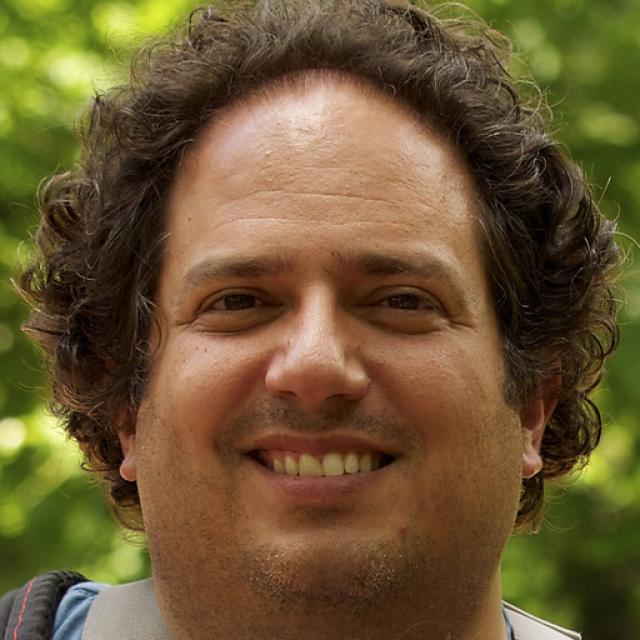happy: (144, 105, 522, 623)
